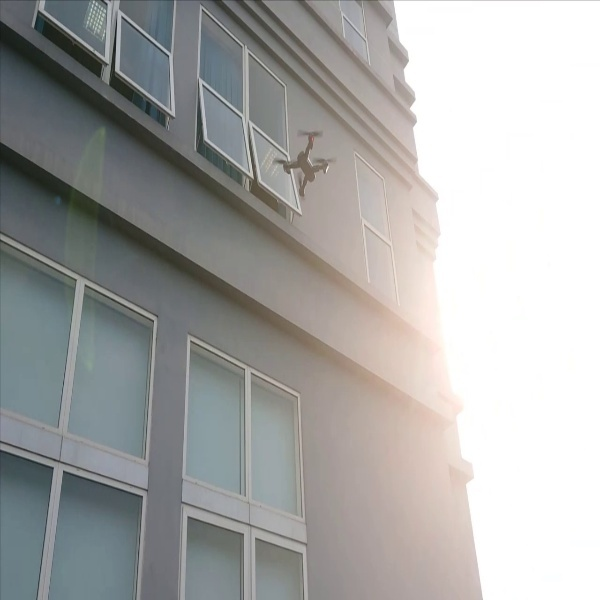drone: (265, 121, 346, 205)
